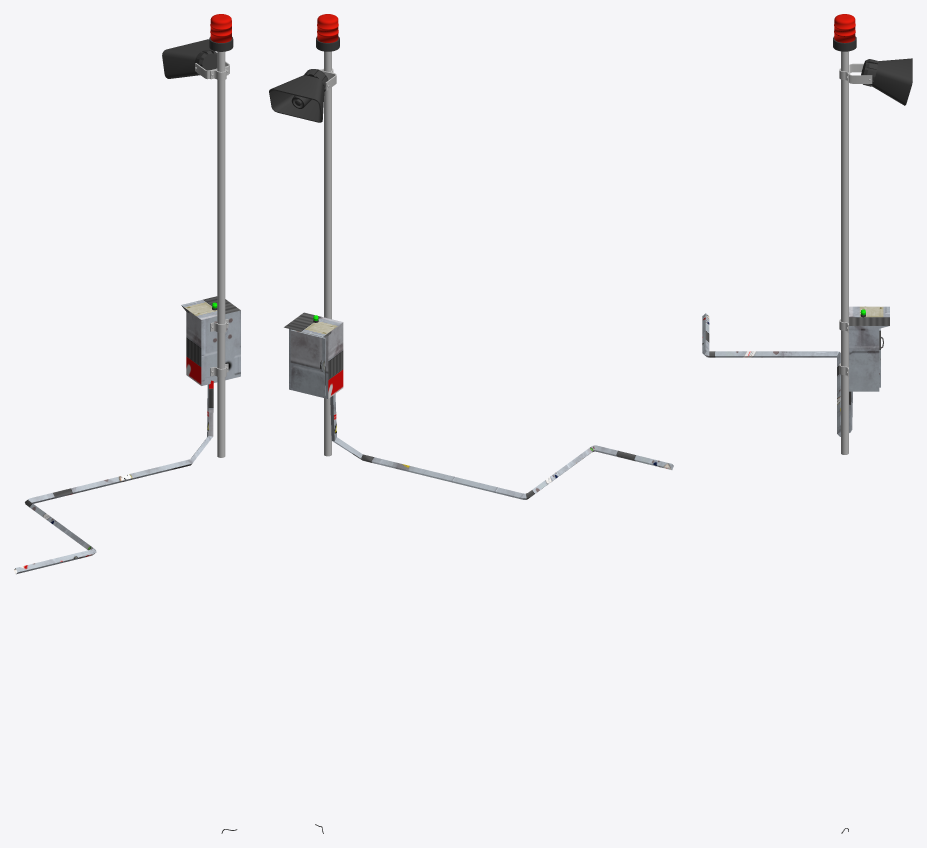
The model's file is SirenAlarmMesh.fbx.
3 views of the same model, side by side, from view 1: azimuth 30°, elevation 25°; view 2: azimuth 150°, elevation 25°; view 3: azimuth 270°, elevation 25° (orthographic).
Visible parts, largest first — view 1: HighVolt.001, Cylinder.003, Cube, Cylinder.001; view 2: HighVolt.001, Cylinder.003, Cube; view 3: HighVolt.001, Cylinder.003, Cube, Cylinder.001.
Boxes of the visible parts, x1,y1,x2,y2 form: HighVolt.001: (14,296,240,574); Cylinder.003: (217,51,225,457); Cube: (162,39,214,78); Cylinder.001: (210,14,231,42); HighVolt.001: (284,312,673,499); Cylinder.003: (324,51,331,456); Cube: (269,75,324,122); HighVolt.001: (702,306,889,436); Cylinder.003: (841,51,848,454); Cube: (872,58,912,105); Cylinder.001: (834,14,855,42).
Bounding box in the file's own units: 974 × 2530 × 593.
